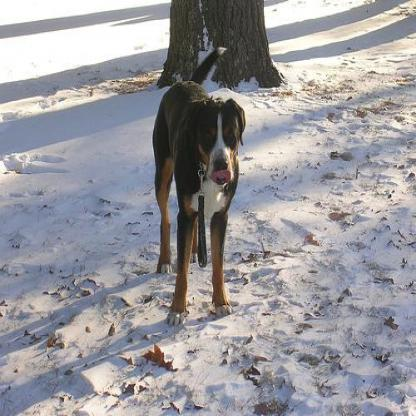Greater_Swiss_Mountain_dog: (152, 78, 246, 326)
